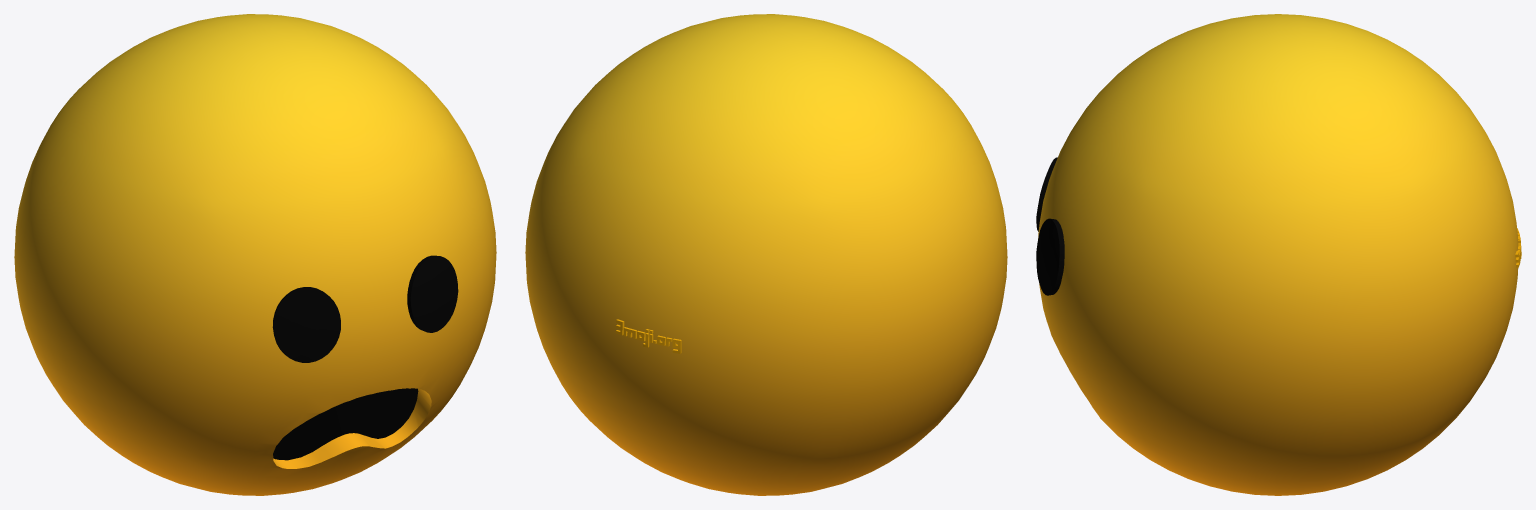
Rendered from frowning_face_with_open_mouth.gltf.
3 renders of one model, left to right at view 1: azimuth 30°, elevation 25°; view 2: azimuth 150°, elevation 25°; view 3: azimuth 270°, elevation 25°, orthographic.
Visible parts, largest first — view 1: Frowning Face with Open Mouth; view 2: Frowning Face with Open Mouth; view 3: Frowning Face with Open Mouth.
Boxes of the visible parts, left/top/right/bottom form: Frowning Face with Open Mouth: left=14, top=14, right=496, bottom=495; Frowning Face with Open Mouth: left=525, top=14, right=1007, bottom=495; Frowning Face with Open Mouth: left=1036, top=14, right=1521, bottom=495.
Bounding box in the file's own units: 1.69 × 1.69 × 1.7.
1 material, 1 textured.
